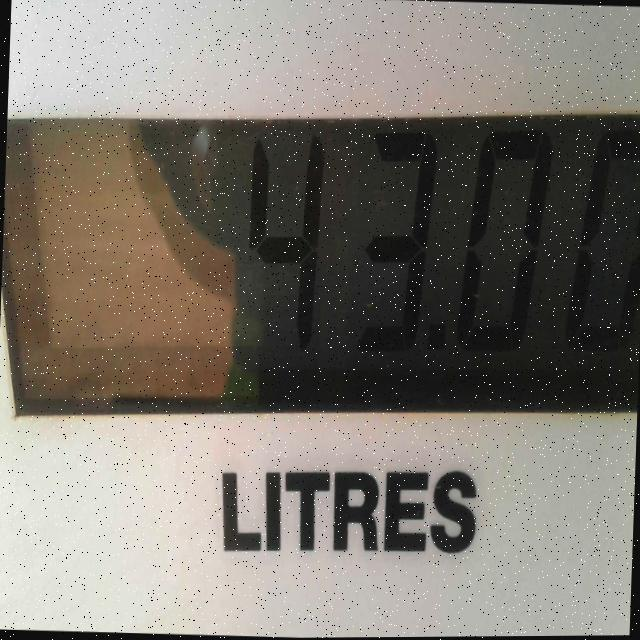.: (423, 315, 455, 373)
0: (450, 124, 548, 373)
1: (554, 108, 628, 385)
3: (362, 124, 437, 353)
4: (235, 137, 332, 368)
